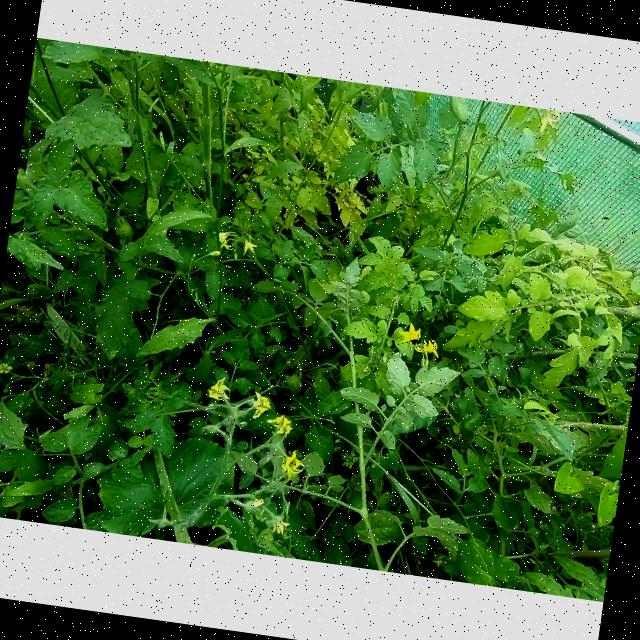Flowers: (278, 450, 307, 481), (247, 390, 274, 422), (264, 413, 296, 440), (538, 110, 566, 138), (206, 376, 233, 404), (398, 320, 422, 347), (413, 338, 443, 359), (268, 514, 292, 538), (217, 230, 240, 253), (242, 236, 262, 256), (245, 495, 264, 514), (0, 362, 14, 375)
